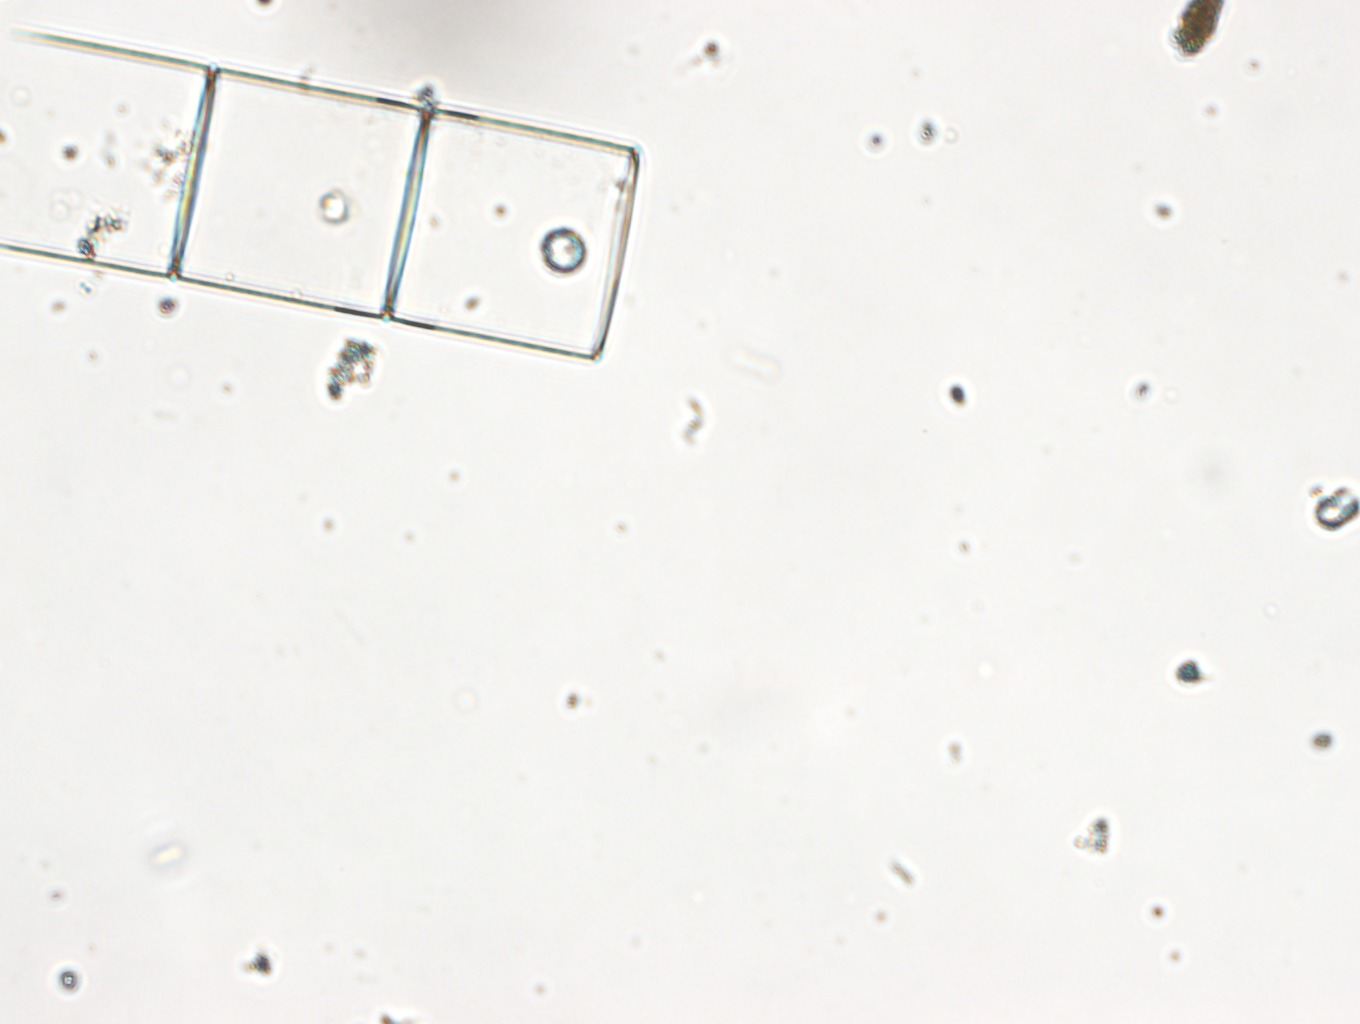guinardia flaccida: (1, 24, 639, 361)
